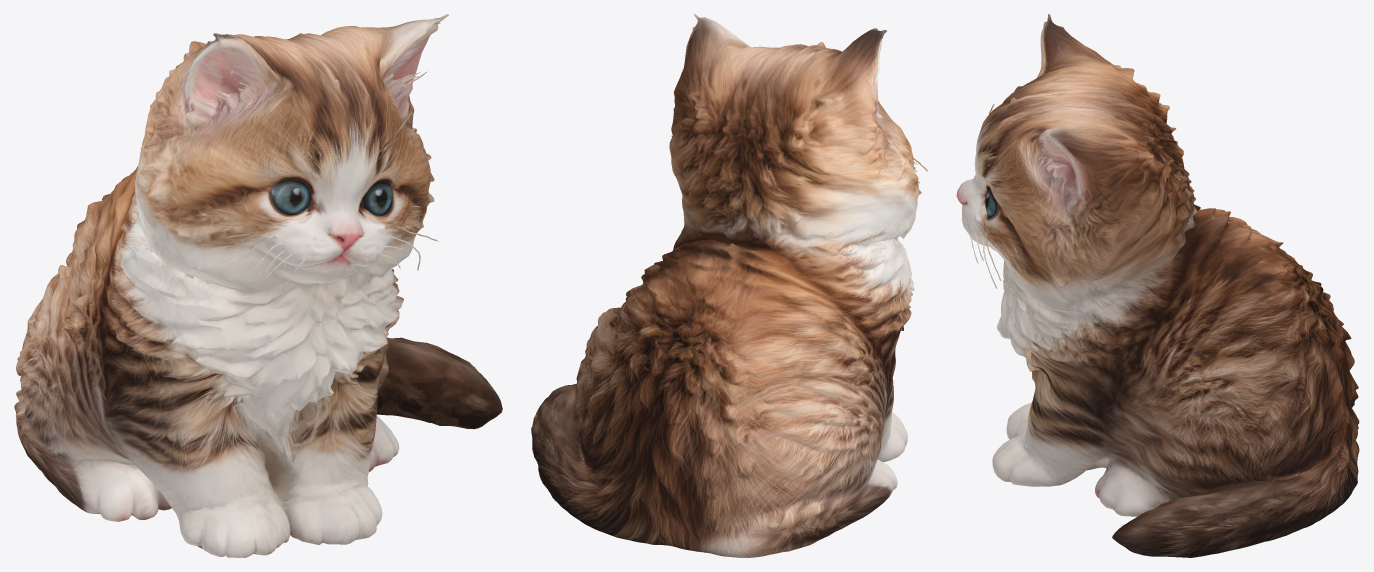
File: cat-tabby_kitten.glb
The picture shows the model from 3 angles, left to right: view 1: azimuth 30°, elevation 25°; view 2: azimuth 150°, elevation 25°; view 3: azimuth 270°, elevation 25°; orthographic projection. The views are drawn at different scales.
Parts seen in each view (by area): view 1: Mesh_0_modddif_material_0_0; view 2: Mesh_0_modddif_material_0_0; view 3: Mesh_0_modddif_material_0_0.
Part boxes in pixels (bbox=[...]): Mesh_0_modddif_material_0_0: bbox=[14, 14, 502, 557]; Mesh_0_modddif_material_0_0: bbox=[531, 14, 927, 557]; Mesh_0_modddif_material_0_0: bbox=[956, 14, 1359, 557].
Size of the model in its own units: 0.8322 by 1 by 0.8684.
Materials: 1 (1 with a texture image).
